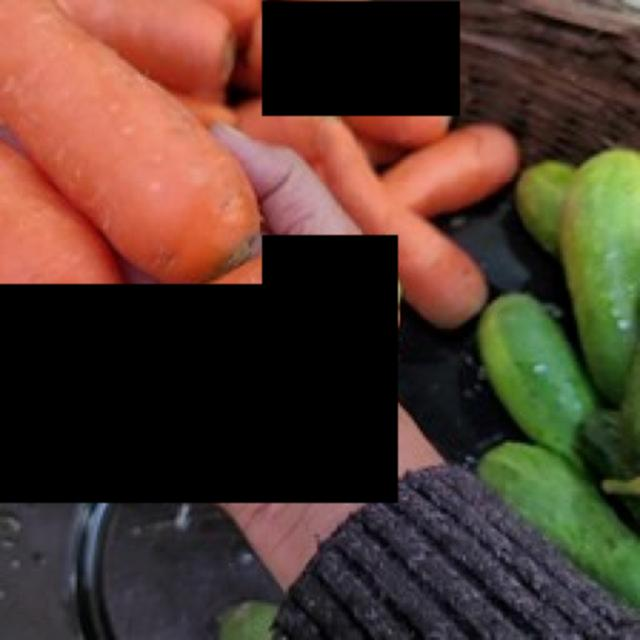Carrot: (0, 235, 398, 503), (0, 0, 262, 284), (252, 2, 460, 117)
